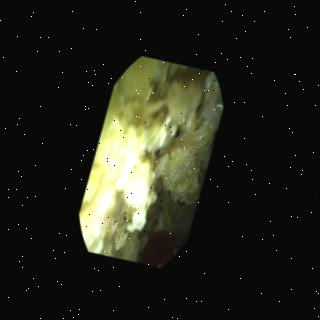stone: (84, 60, 222, 260)
